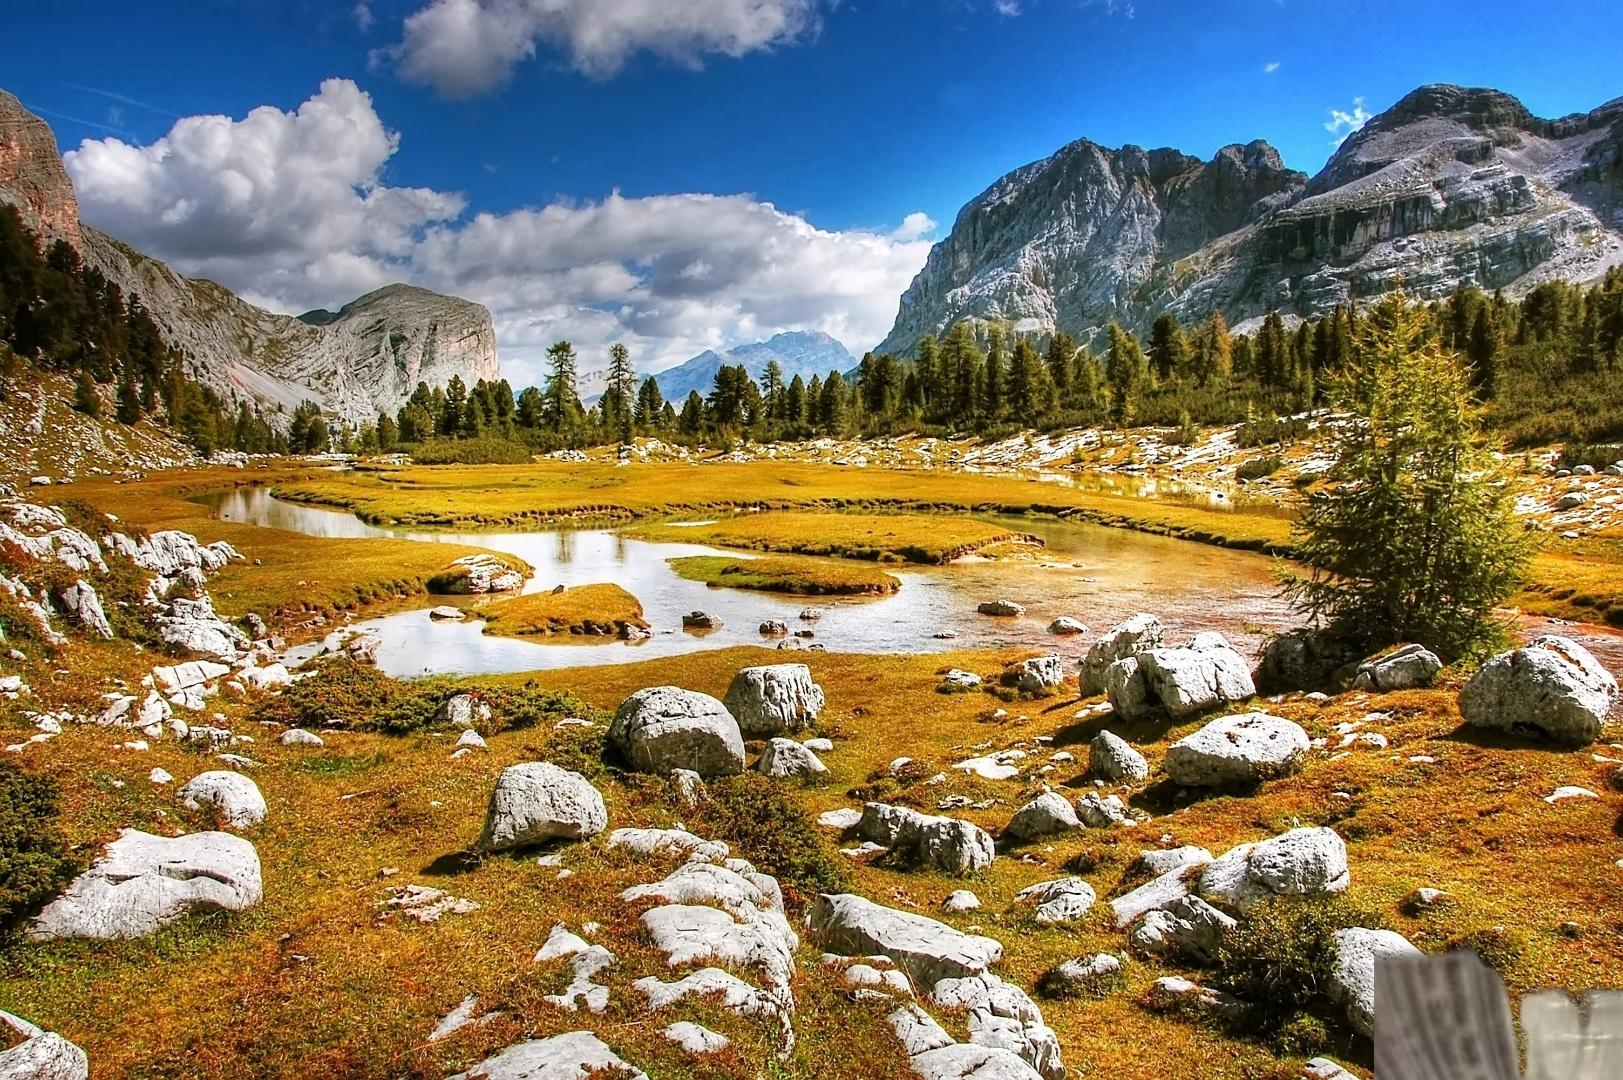glass: (1374, 827, 1623, 1080)
trashbox-cardboard: (1616, 845, 1623, 1080)
